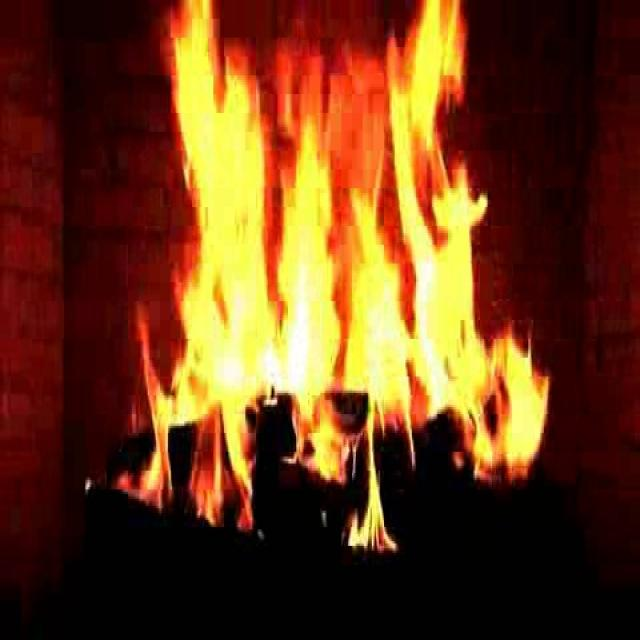fire: (164, 19, 549, 496)
